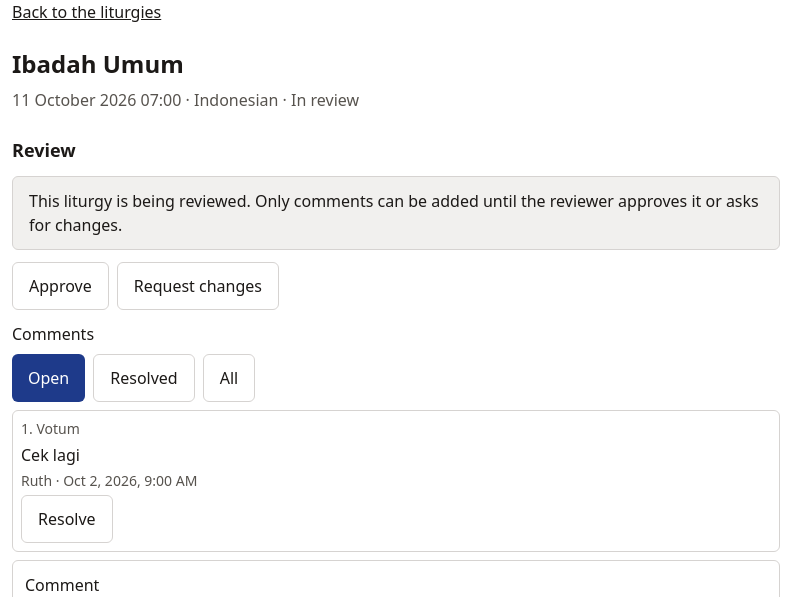
Test: WT-R-004 comments › resolves and reopens, and folds the resolved ones
This screenshot has width=797, height=597.
Click the button "Resolve" at (67, 519), box [21, 495, 113, 543]
(page scrolled)
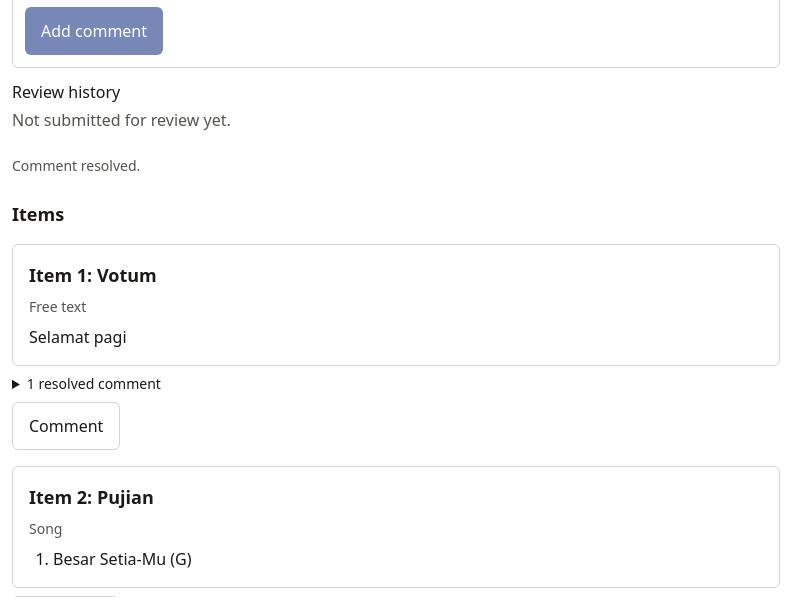
Expected: the heading "1 resolved comment" is shown
Click the heading "1 resolved comment" at (94, 384), box [27, 374, 161, 393]
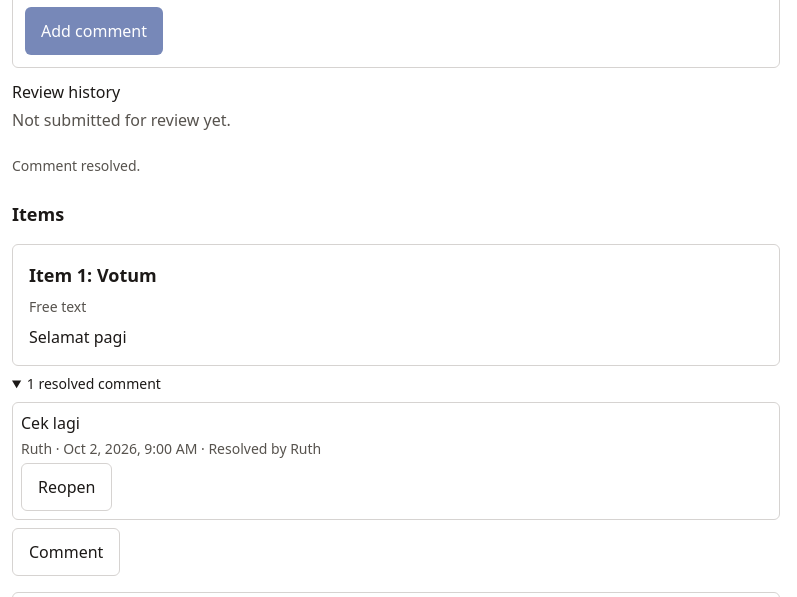
Click the button "Reopen" at (67, 487), box [21, 463, 112, 511]
(page scrolled)
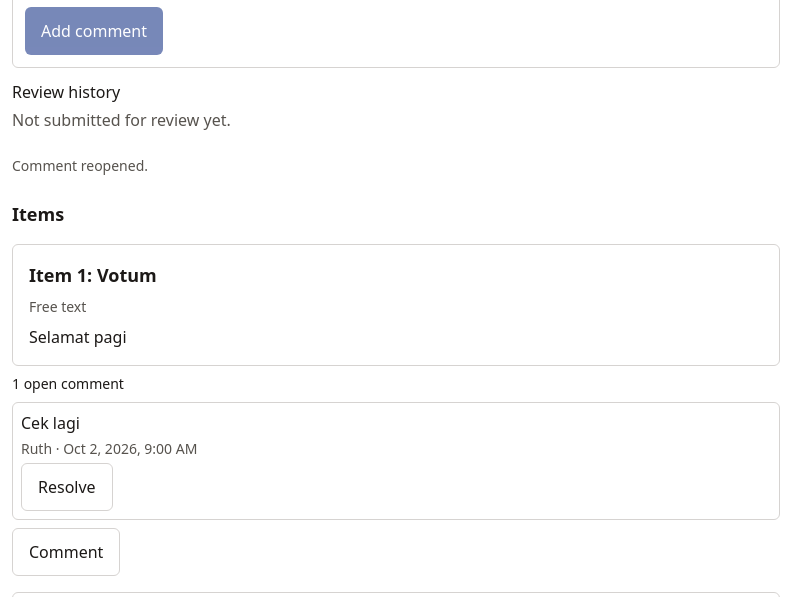
Expected: the text "1 open comment" is shown, [12, 374, 124, 393]
